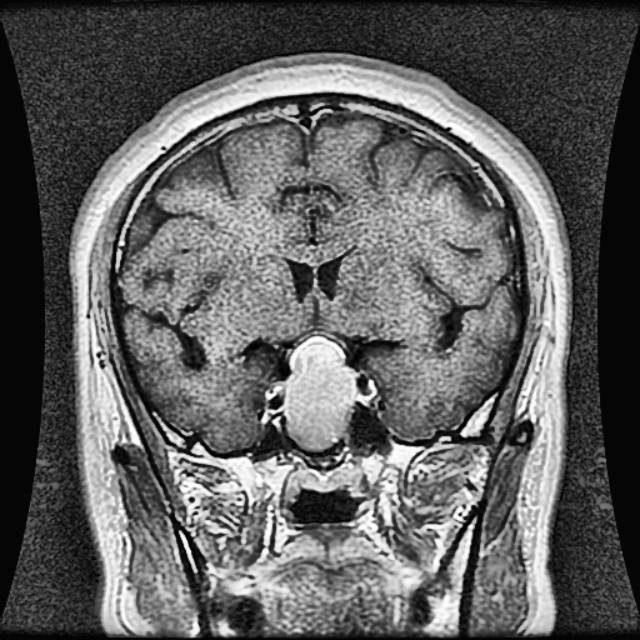Pituitary: (284, 337, 358, 450)
